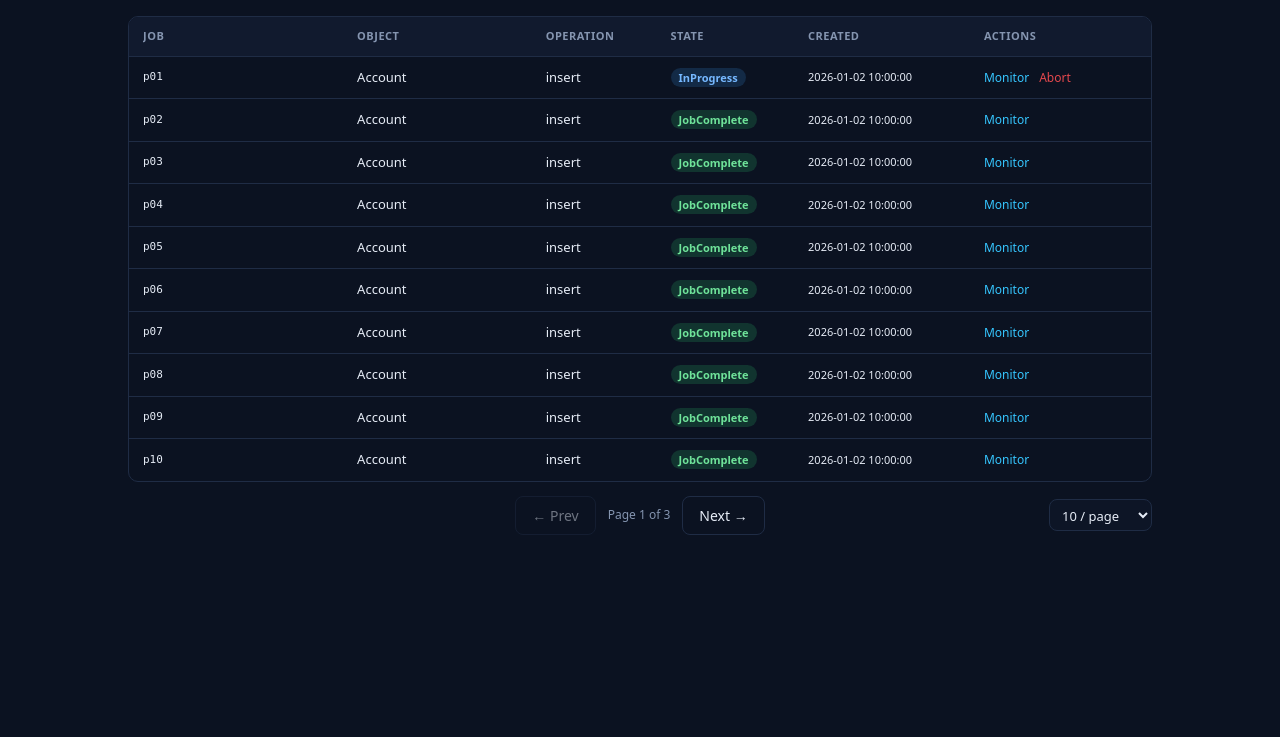
Test: JobsPanel › changing page size resets to page 1 and resizes the page
The image size is (1280, 737).
Click the button "Next →" at (724, 515), box [682,496,765,534]
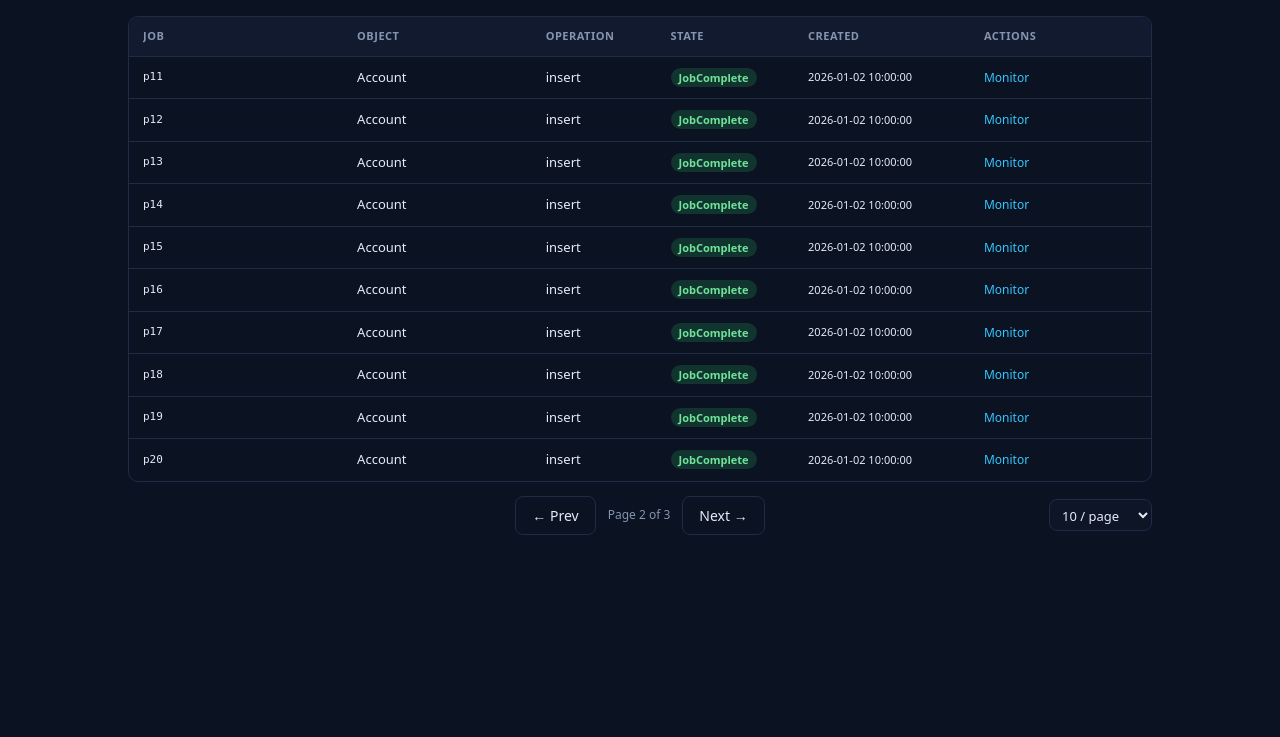
Select "50 / page" in the dropdown named "Jobs per page" at (1100, 515), box [1049,499,1152,531]
(page scrolled)
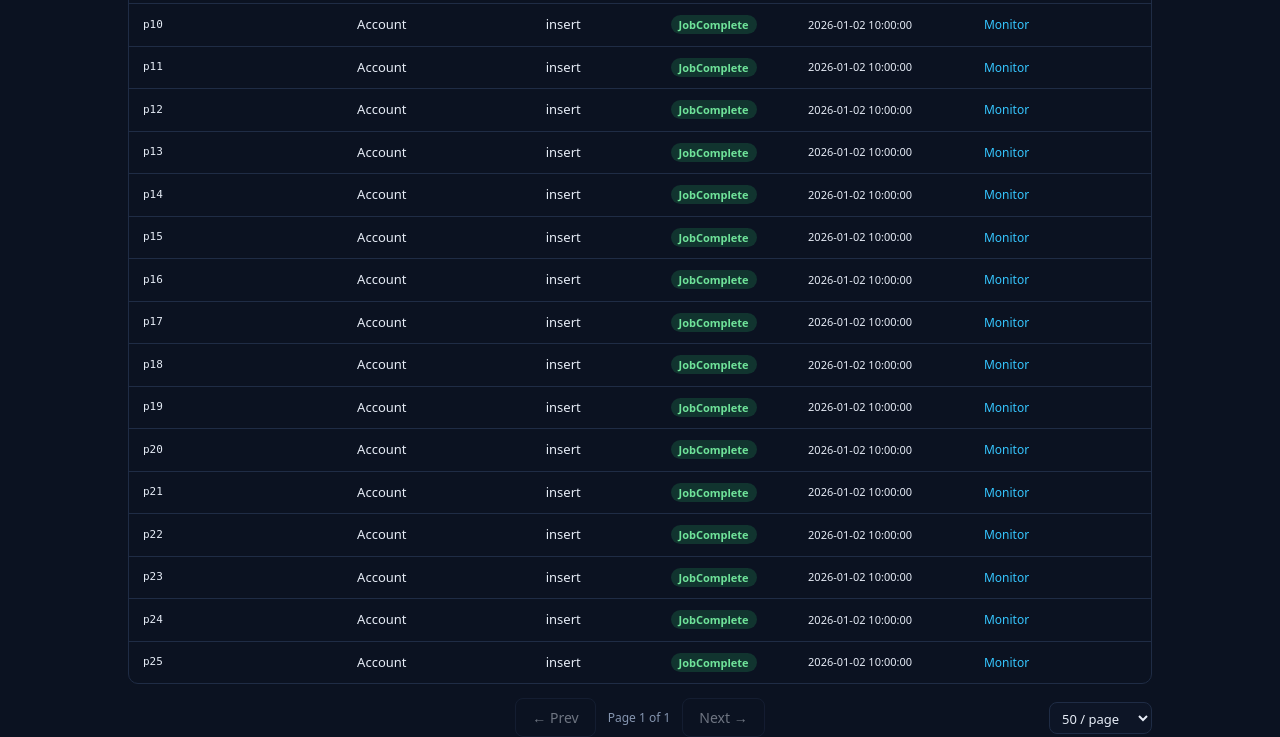
Now the text "Page 1 of 1" is shown, box [608,708,670,726]
